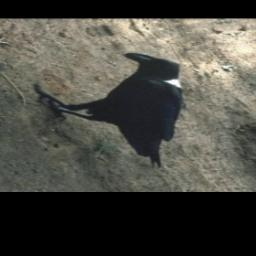Crow: (10, 48, 256, 175)
